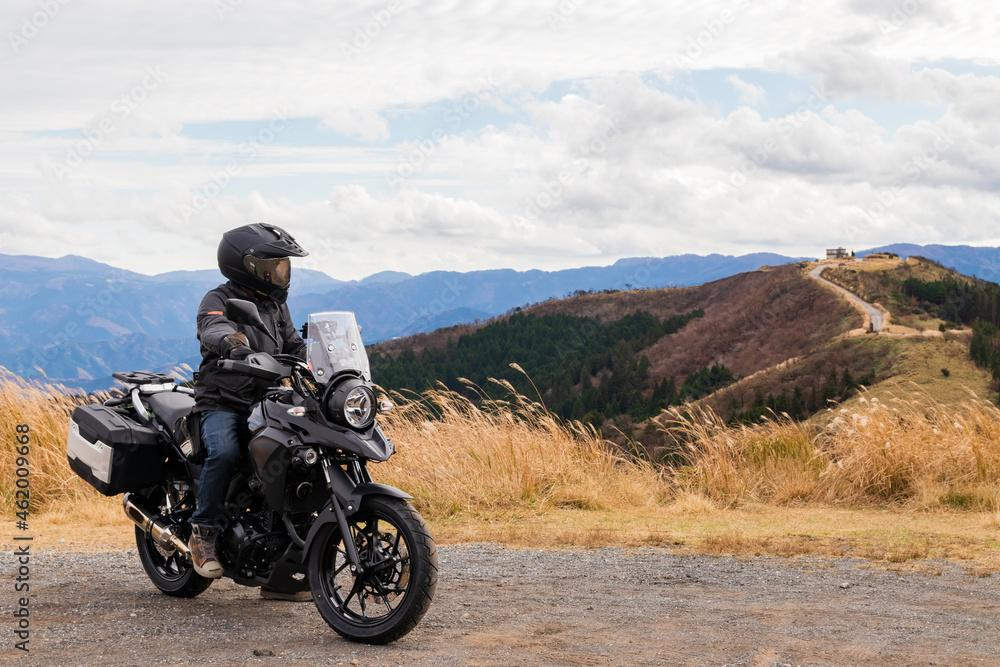helmet: (216, 221, 310, 304)
